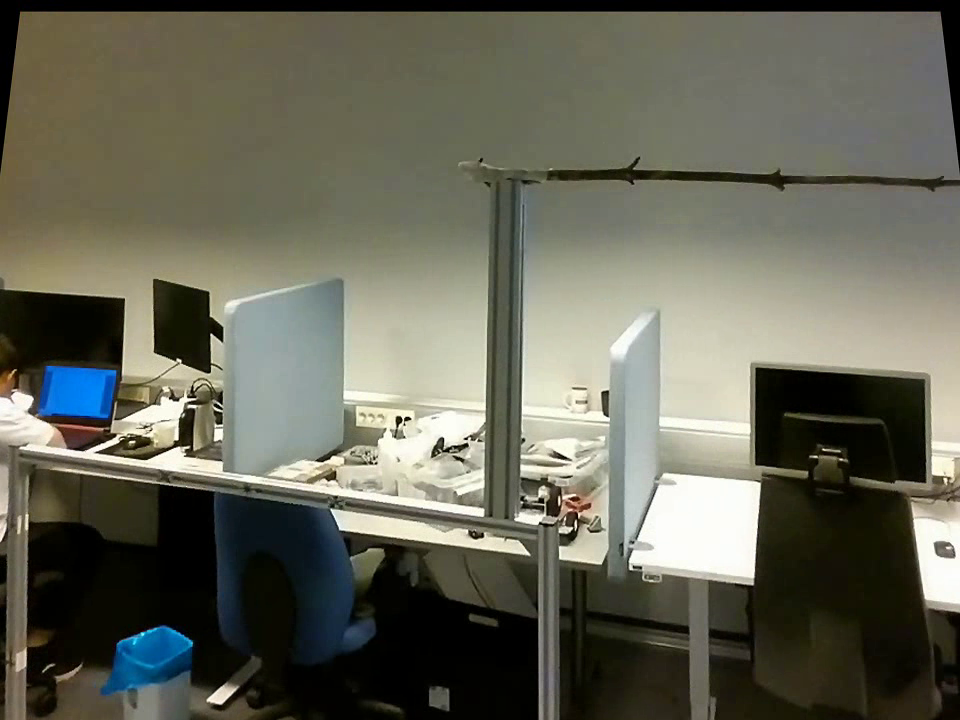aluminum_frame: (8, 433, 538, 542), (477, 184, 523, 518), (530, 510, 565, 716), (3, 446, 27, 717)
branch: (552, 146, 953, 198)
